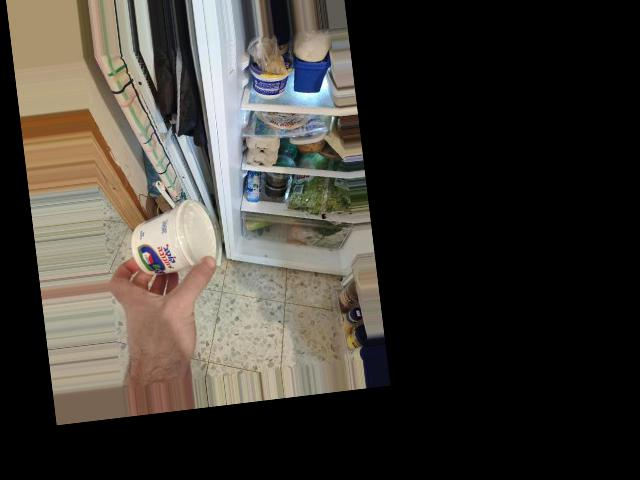cotage: (123, 199, 218, 285)
